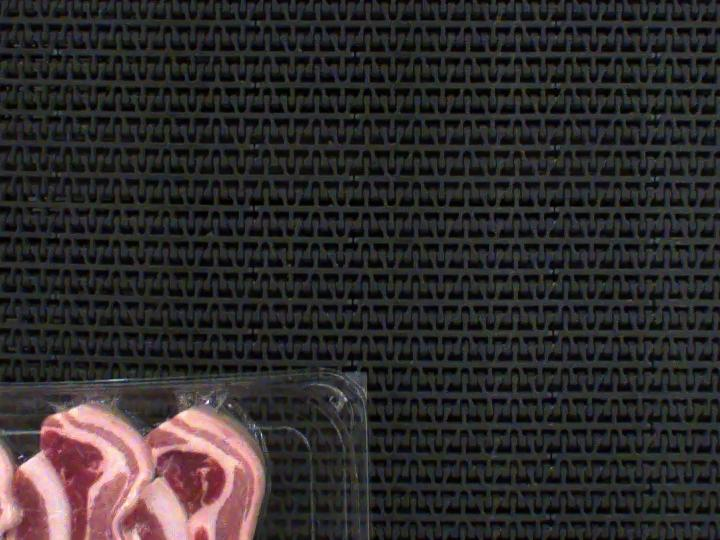packaging-error: (31, 389, 131, 424), (162, 389, 251, 421)
unsealed: (240, 425, 290, 540)
